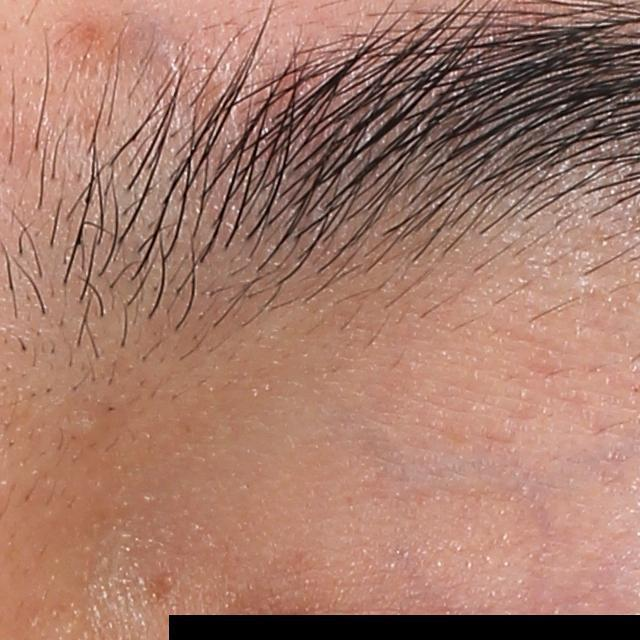comedo: (72, 411, 102, 439)
